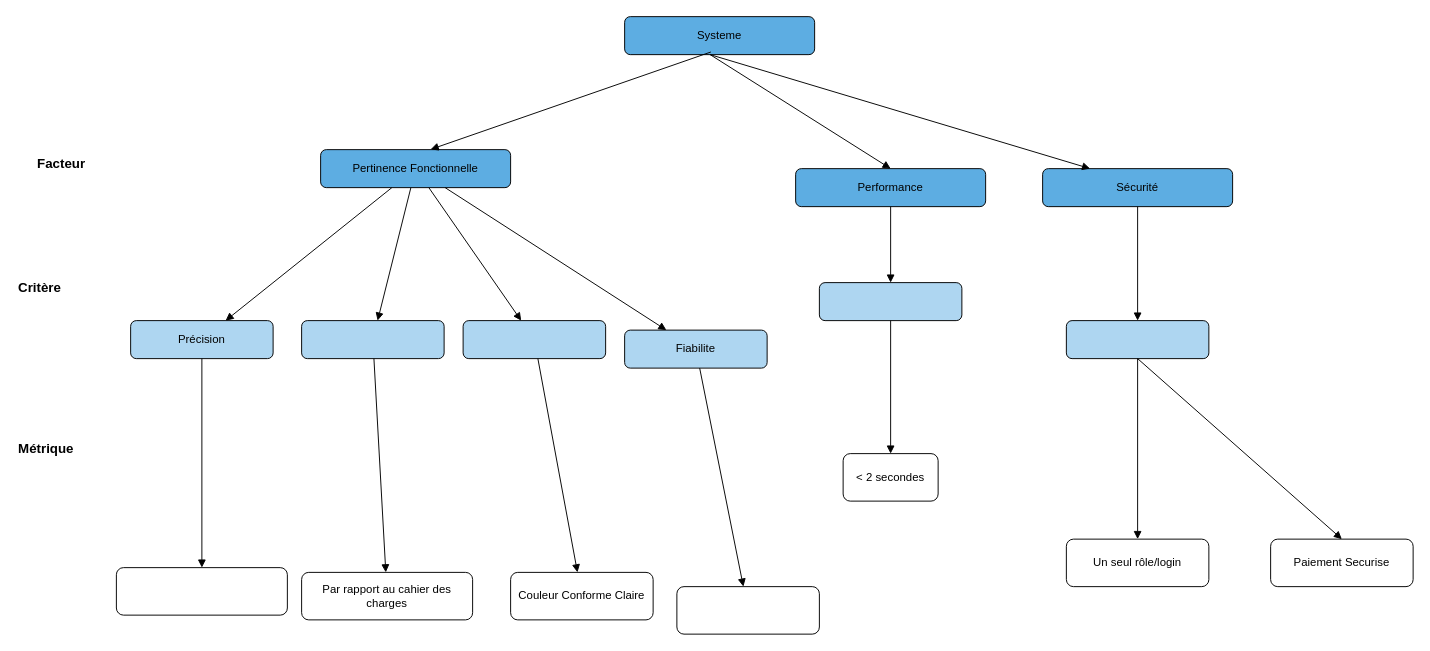
This 1430x651 diagram has some shape labels left out. Here are the shapes that lost their labels. From the top down, the box of each, then its label:
(818, 282, 962, 321): Temps de réponse
(301, 320, 444, 359): Conformité
(462, 320, 606, 359): Ergonomie
(1065, 320, 1209, 359): Confidentialité
(115, 567, 287, 615): Affichage des résultats détaillés (Historique Des Commandes/Produits)
(676, 586, 819, 634): Haute disponibilité 24/24
